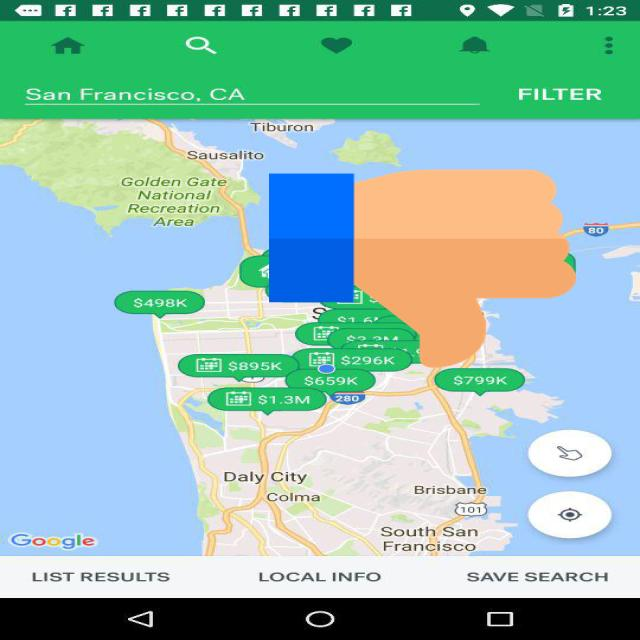obstruction: (269, 165, 576, 372)
